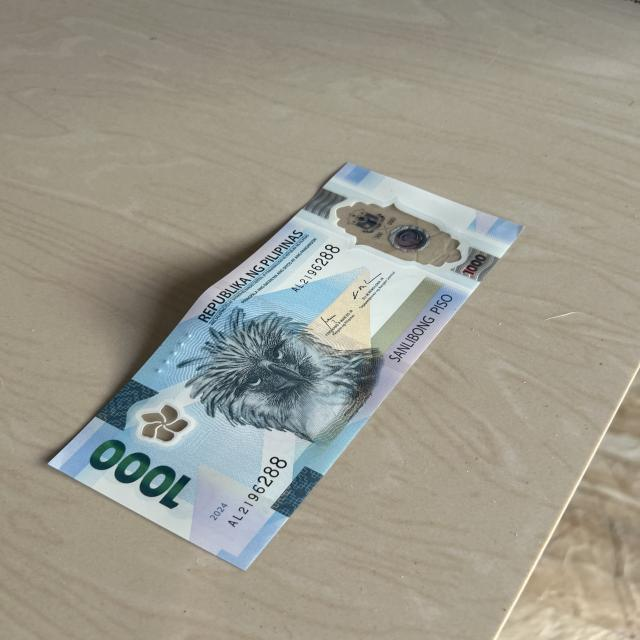clear_window: (326, 194, 470, 271)
eagle: (185, 318, 362, 431)
sampaguita: (134, 404, 189, 442)
